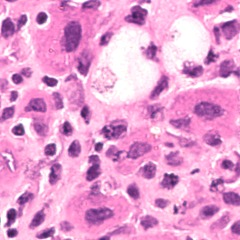New: (37, 6, 94, 74), (167, 86, 240, 135), (62, 189, 132, 238), (115, 131, 160, 169), (12, 88, 56, 120)
